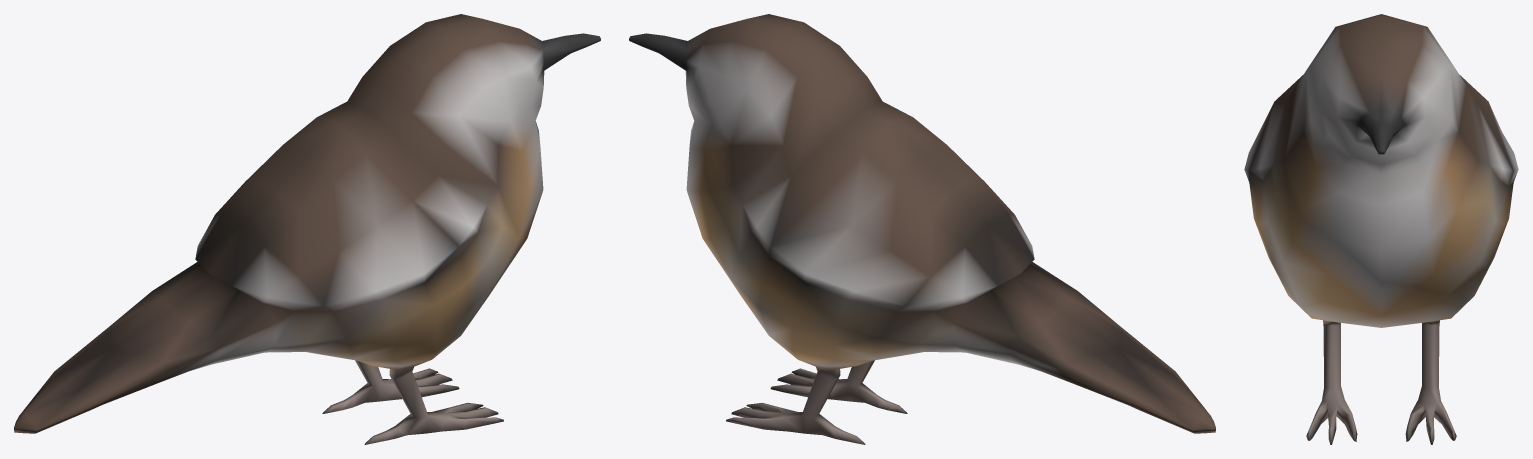
Rendered from gorrion.glb.
The picture shows the model from 3 angles, left to right: view 1: azimuth 30°, elevation 25°; view 2: azimuth 150°, elevation 25°; view 3: azimuth 270°, elevation 25°; orthographic projection. The views are drawn at different scales.
Parts seen in each view (by area): view 1: fauna/gorrion.glb; view 2: fauna/gorrion.glb; view 3: fauna/gorrion.glb.
Boxes of the visible parts, x1=… form: fauna/gorrion.glb: x1=14, y1=14, x2=600, y2=444; fauna/gorrion.glb: x1=629, y1=14, x2=1215, y2=444; fauna/gorrion.glb: x1=1244, y1=14, x2=1518, y2=444.
Size of the model in its own units: 1 by 0.614 by 0.3711.
